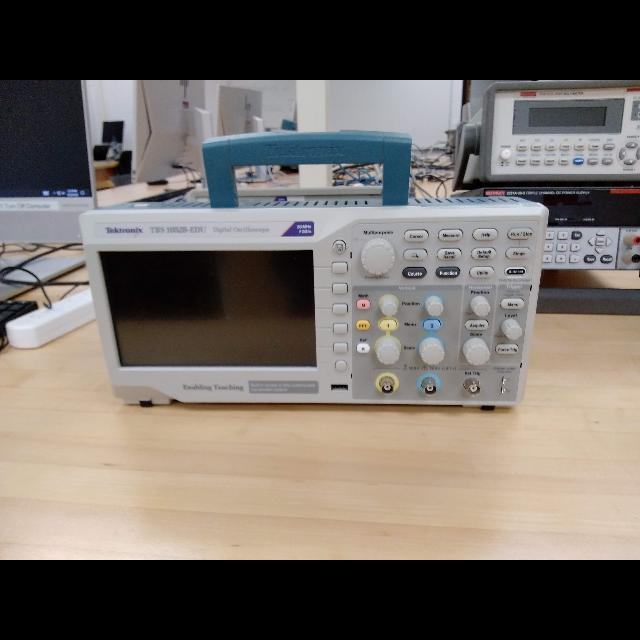Digital-Oscilloscope: (81, 211, 545, 406)
